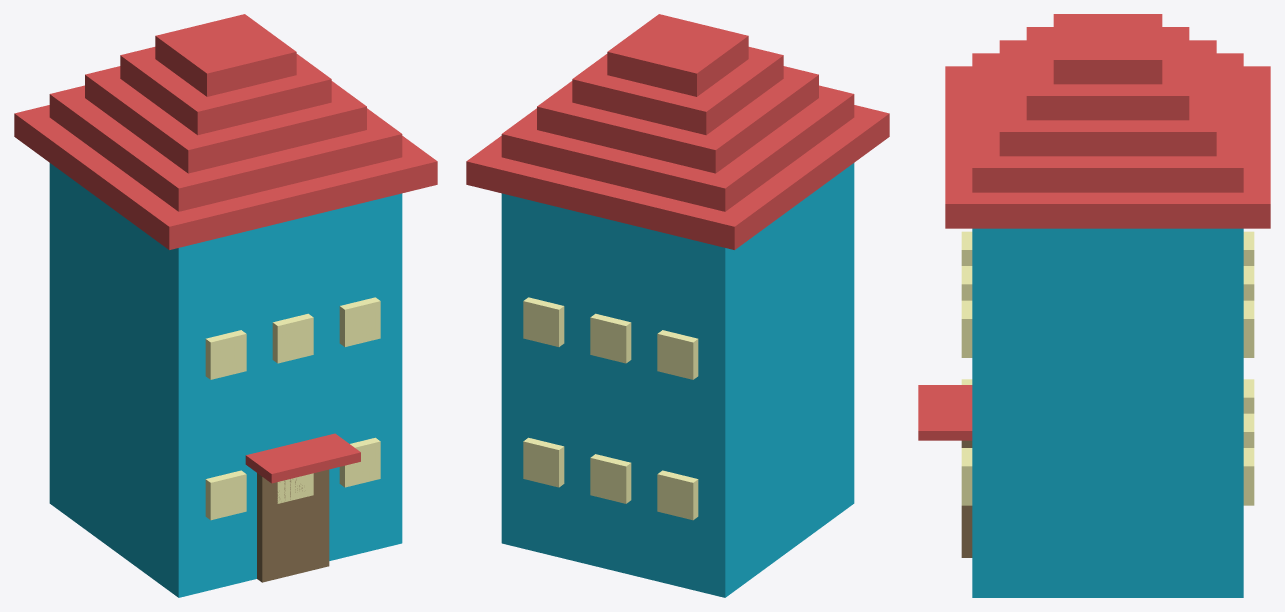
Rendered from building.glb.
The picture shows the model from 3 angles, left to right: view 1: azimuth 30°, elevation 25°; view 2: azimuth 150°, elevation 25°; view 3: azimuth 270°, elevation 25°; orthographic projection. The views are drawn at different scales.
Parts seen in each view (by area): view 1: Walls; view 2: Walls; view 3: Walls.
Boxes of the visible parts, x1,y1,x2,y2 form: Walls: (14, 14, 437, 597); Walls: (466, 14, 889, 597); Walls: (918, 14, 1270, 597).
Size of the model in its own units: 6 by 10.25 by 6.5.
